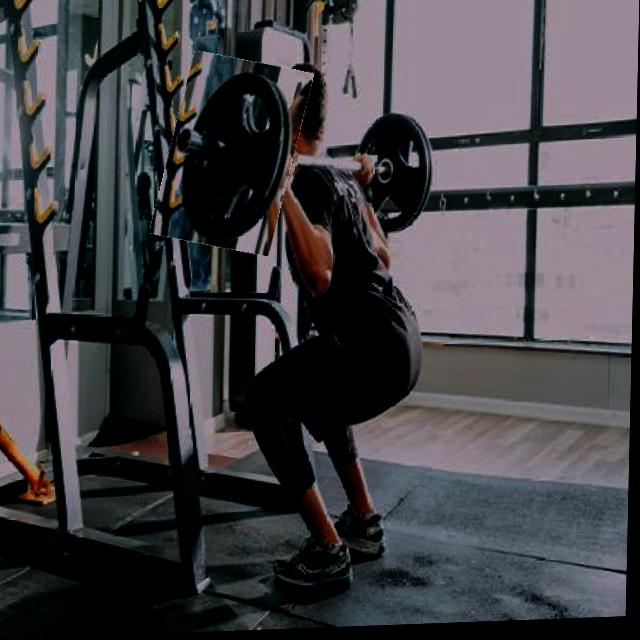barbell: (161, 56, 306, 257)
